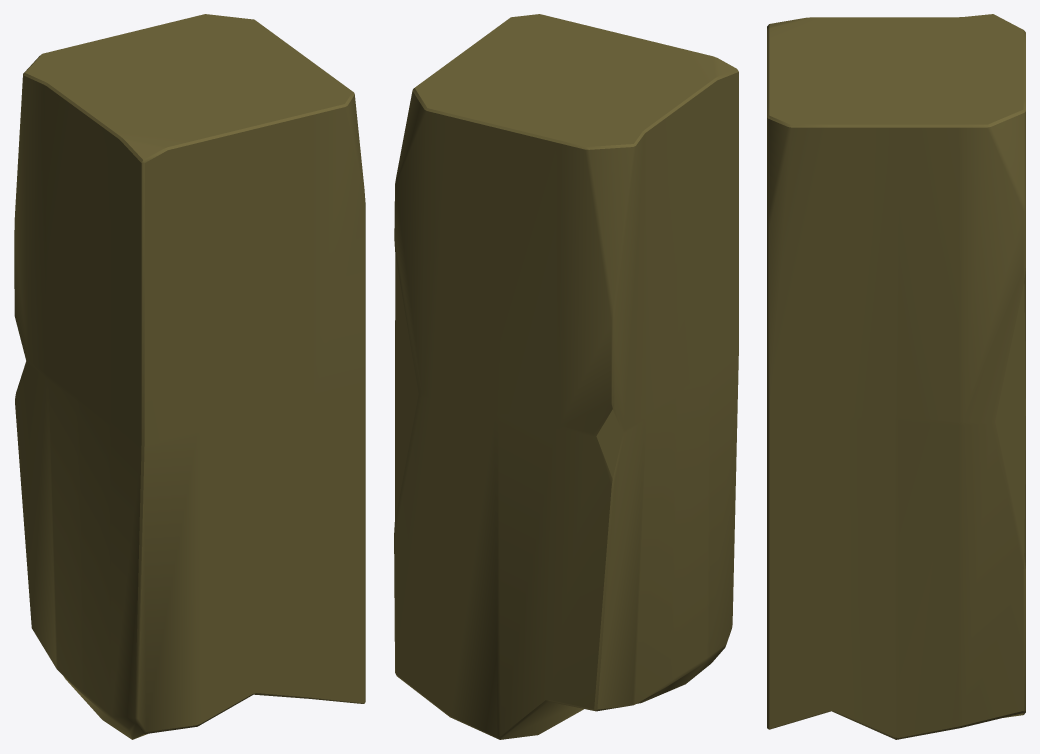
File: pillar_broken_top.fbx
The picture shows the model from 3 angles, left to right: view 1: azimuth 30°, elevation 25°; view 2: azimuth 150°, elevation 25°; view 3: azimuth 270°, elevation 25°; orthographic projection. The views are drawn at different scales.
Visible parts, largest first — view 1: Pillar_Broken_Top; view 2: Pillar_Broken_Top; view 3: Pillar_Broken_Top.
Part boxes in pixels (x1,y1,x2,y2): Pillar_Broken_Top: (14, 14, 365, 739); Pillar_Broken_Top: (394, 14, 738, 739); Pillar_Broken_Top: (767, 14, 1025, 739).
Size of the model in its own units: 123 by 318 by 115.
